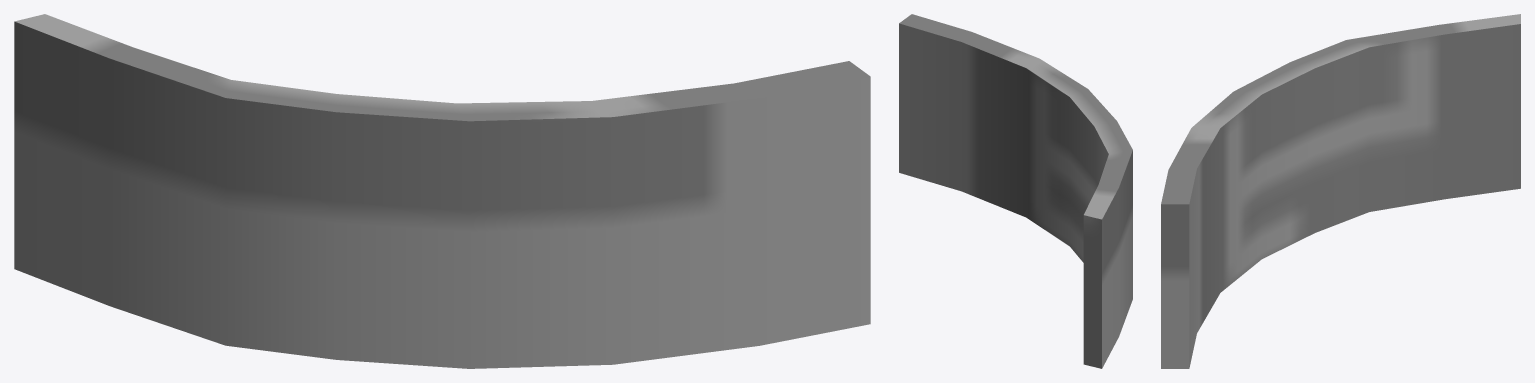
Rendered from wall_curve_02.fbx.
The picture shows the model from 3 angles, left to right: view 1: azimuth 30°, elevation 25°; view 2: azimuth 150°, elevation 25°; view 3: azimuth 270°, elevation 25°; orthographic projection. The views are drawn at different scales.
Parts seen in each view (by area): view 1: wall_curve_02; view 2: wall_curve_02; view 3: wall_curve_02.
Boxes of the visible parts, x1,y1,x2,y2 form: wall_curve_02: (14, 14, 870, 368); wall_curve_02: (899, 14, 1132, 368); wall_curve_02: (1161, 14, 1520, 368).
Size of the model in its own units: 4452 by 1799 by 3560.
